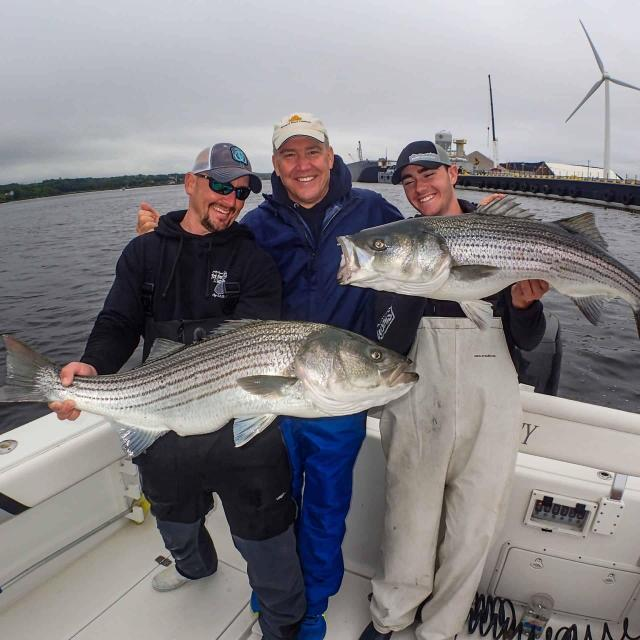Bass - Striped: (0, 320, 418, 457), (338, 197, 640, 336)
